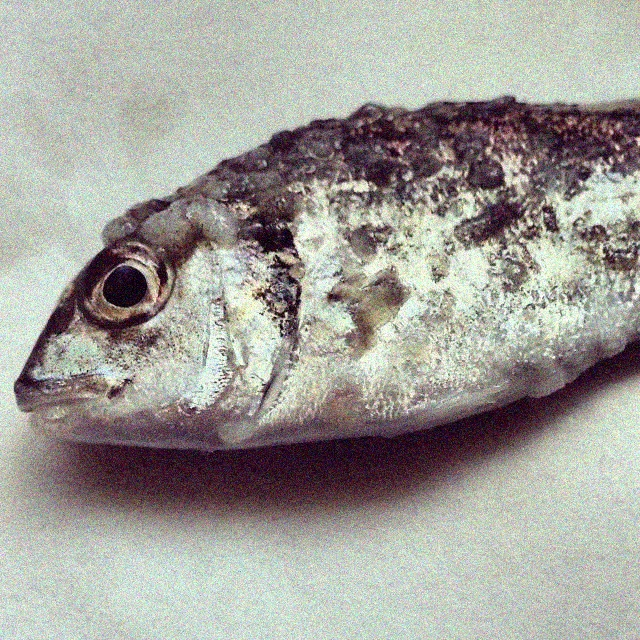EUS Disease: (13, 91, 640, 458), (92, 92, 640, 412)
